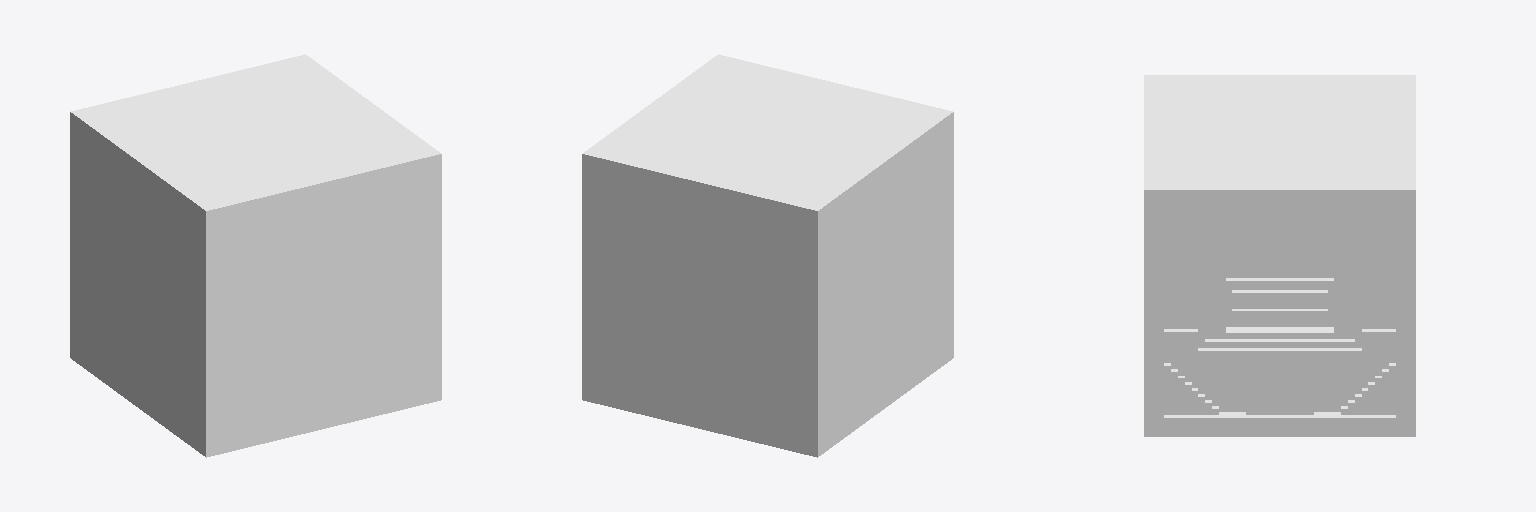
File: greenv2.obj
3 views of the same model, side by side, from view 1: azimuth 30°, elevation 25°; view 2: azimuth 150°, elevation 25°; view 3: azimuth 270°, elevation 25° (orthographic).
Visible parts, largest first — view 1: object 1; view 2: object 1; view 3: object 1.
Part boxes in pixels (bbox=[...]): object 1: bbox=[70, 54, 441, 457]; object 1: bbox=[582, 54, 953, 457]; object 1: bbox=[1144, 75, 1415, 436].
Bounding box in the file's own units: 4 × 4 × 4.